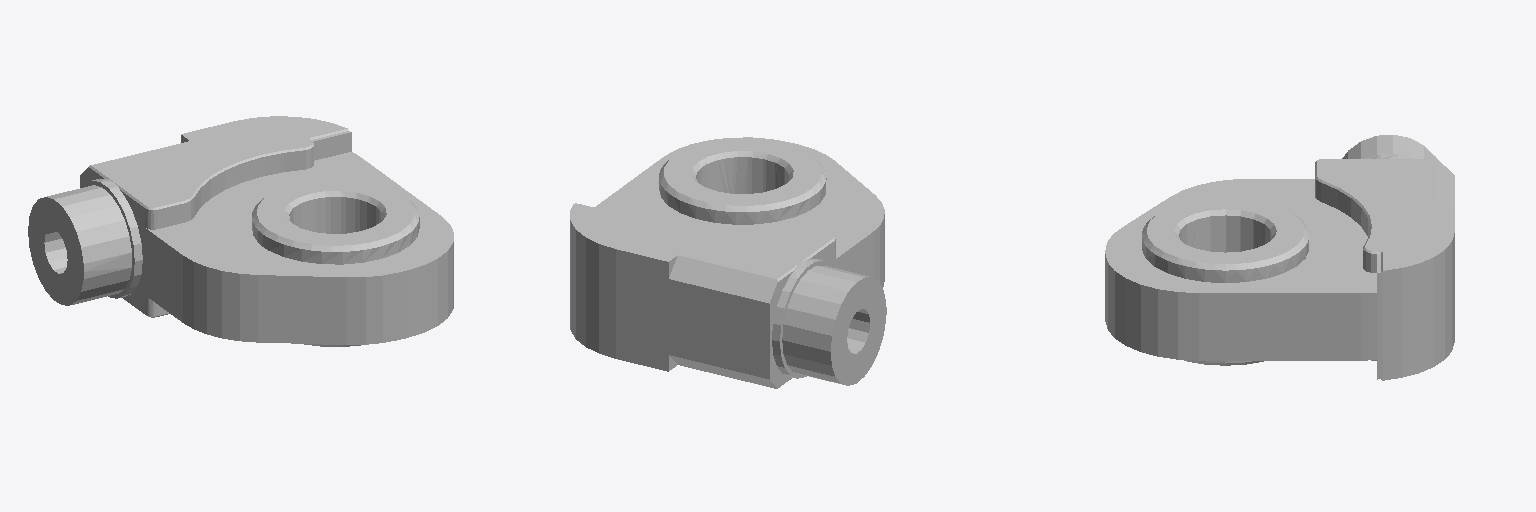
Rendered from left_ankle_pitch_link_collisions.obj.
The picture shows the model from 3 angles: view 1: azimuth 30°, elevation 25°; view 2: azimuth 150°, elevation 25°; view 3: azimuth 270°, elevation 25°; orthographic projection.
Bounding box in the file's own units: 0.036 × 0.013 × 0.0374.